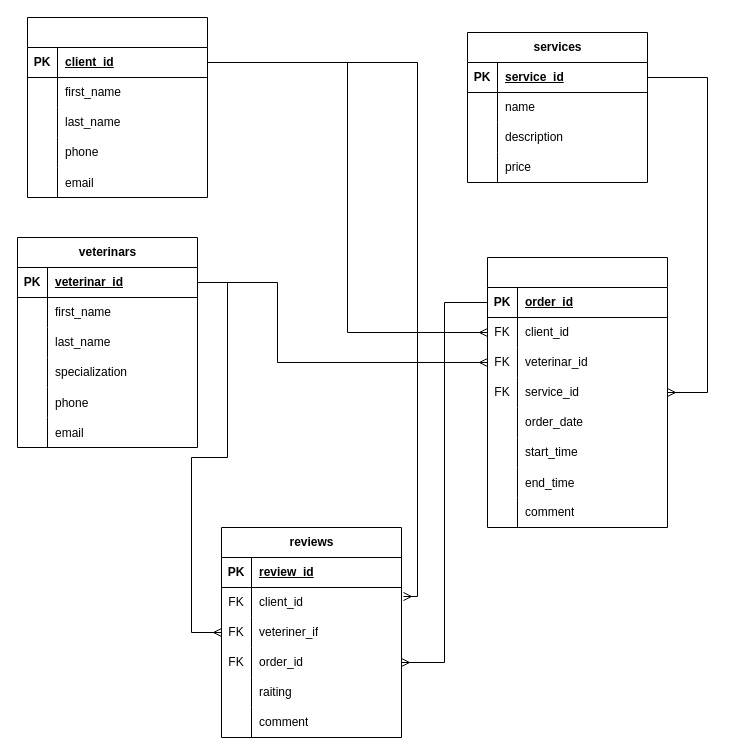
This 733x755 diagram has some shape labels left out. The box of each missing label's shape, as (x1, y1, x2, y2) in pixels:
clients: (26, 16, 208, 198)
orders: (486, 256, 668, 528)
